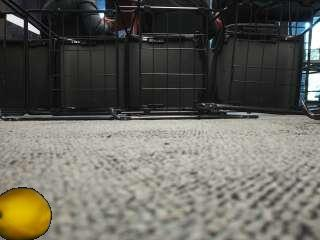lemon: (0, 188, 50, 238)
